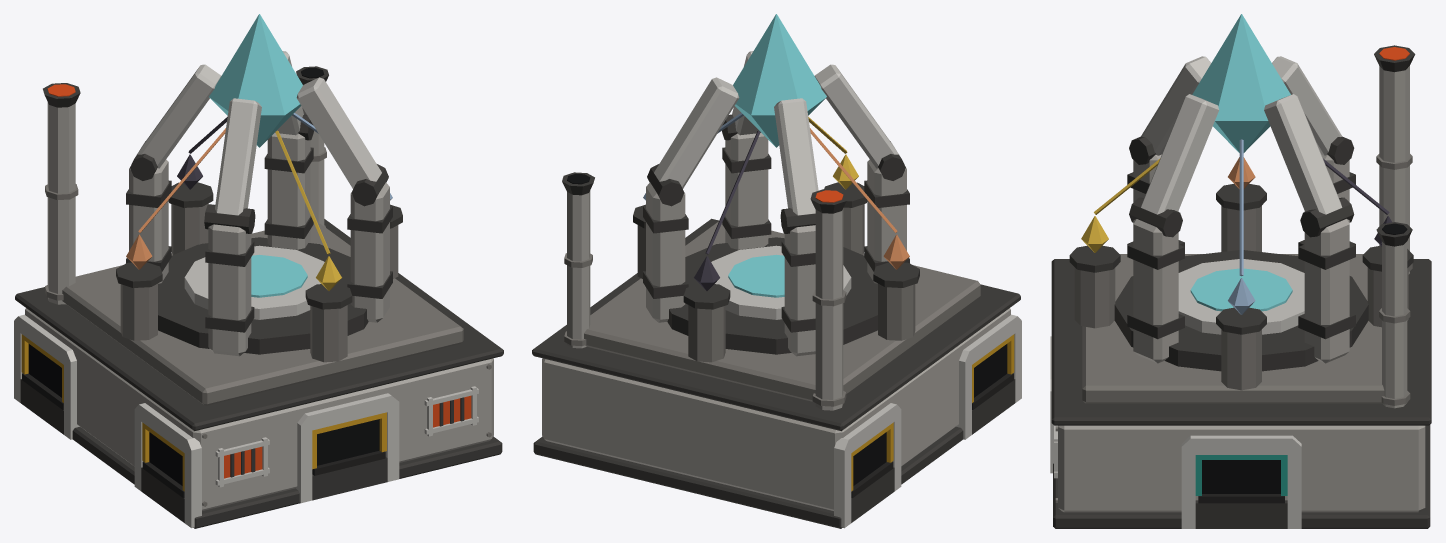
The model's file is coreforge.fbx.
The picture shows the model from 3 angles, left to right: view 1: azimuth 30°, elevation 25°; view 2: azimuth 150°, elevation 25°; view 3: azimuth 270°, elevation 25°; orthographic projection. The views are drawn at different scales.
Visible parts, largest first — view 1: coreforge; view 2: coreforge; view 3: coreforge.
Boxes of the visible parts, left/top/right/bottom form: coreforge: left=14, top=14, right=503, bottom=528; coreforge: left=532, top=14, right=1021, bottom=528; coreforge: left=1050, top=14, right=1431, bottom=528.
Bounding box in the file's own units: 9 × 11.33 × 8.97.
